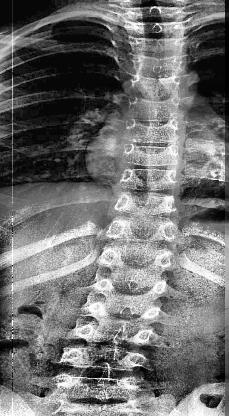Vertebrae: (68, 316, 158, 352), (84, 292, 164, 324), (99, 239, 178, 271), (94, 267, 168, 299), (60, 348, 148, 372), (113, 188, 181, 218), (108, 214, 178, 242), (128, 51, 190, 79), (120, 142, 186, 168), (118, 166, 182, 192), (122, 119, 186, 144), (129, 76, 189, 102), (126, 96, 188, 120), (128, 35, 192, 57), (124, 20, 188, 40), (124, 3, 184, 24)
